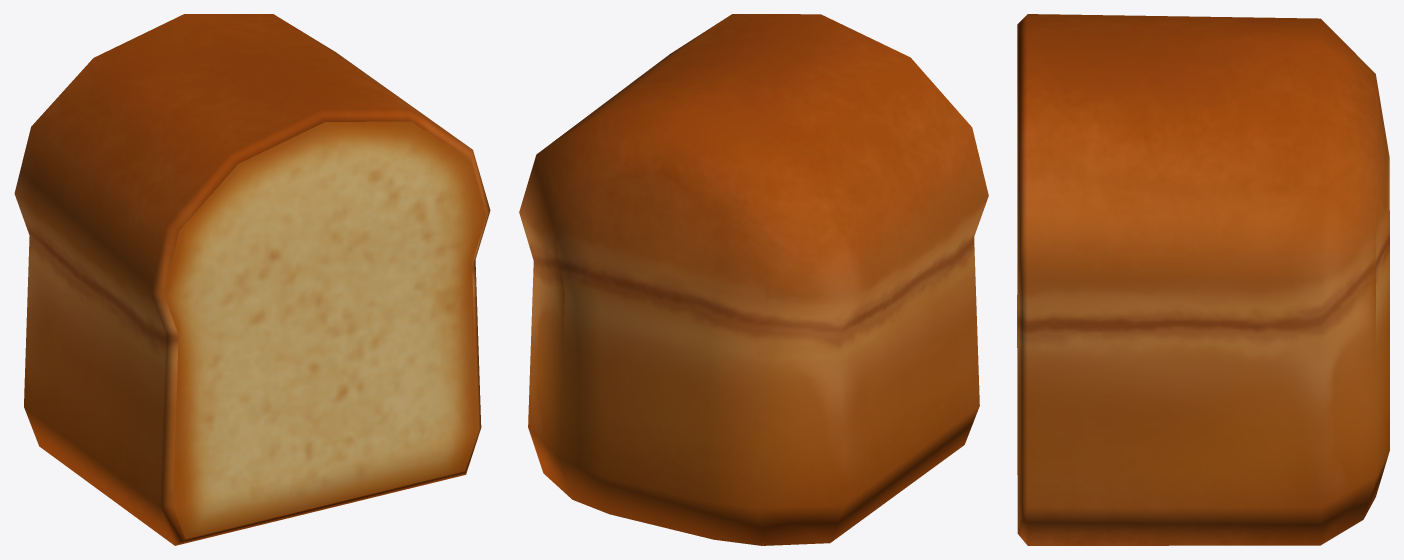
File: Loaf_Sliced_Half.fbx
The picture shows the model from 3 angles, left to right: view 1: azimuth 30°, elevation 25°; view 2: azimuth 150°, elevation 25°; view 3: azimuth 270°, elevation 25°; orthographic projection. The views are drawn at different scales.
Parts seen in each view (by area): view 1: Loaf_Sliced_Half; view 2: Loaf_Sliced_Half; view 3: Loaf_Sliced_Half.
Part boxes in pixels (x1,y1,x2,y2): Loaf_Sliced_Half: [14, 14, 490, 545]; Loaf_Sliced_Half: [519, 14, 988, 545]; Loaf_Sliced_Half: [1017, 14, 1389, 545].
Size of the model in its own units: 35.16 by 39.59 by 31.02.
